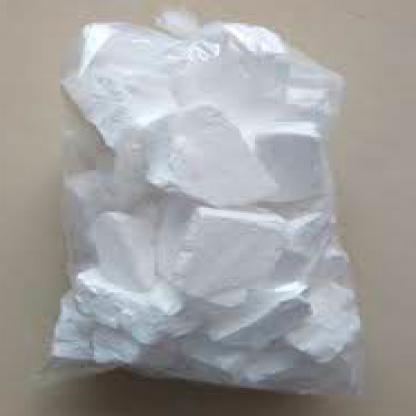Sedimentary_Chalk: (150, 106, 284, 201), (174, 213, 288, 305), (62, 274, 186, 345), (47, 64, 154, 136), (212, 287, 315, 355), (179, 40, 295, 98), (85, 212, 159, 288)
